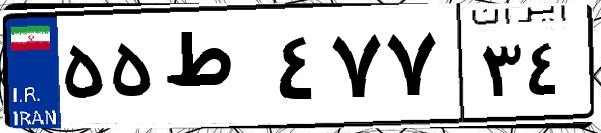3: (475, 38, 525, 113)
4: (270, 28, 330, 110), (525, 38, 570, 115)
5: (57, 26, 110, 100), (110, 28, 158, 98)
7: (385, 28, 445, 110), (330, 28, 385, 110)
ط: (158, 20, 270, 120)
